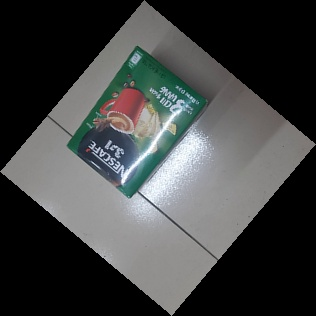Nes Rang: (63, 46, 209, 199)
